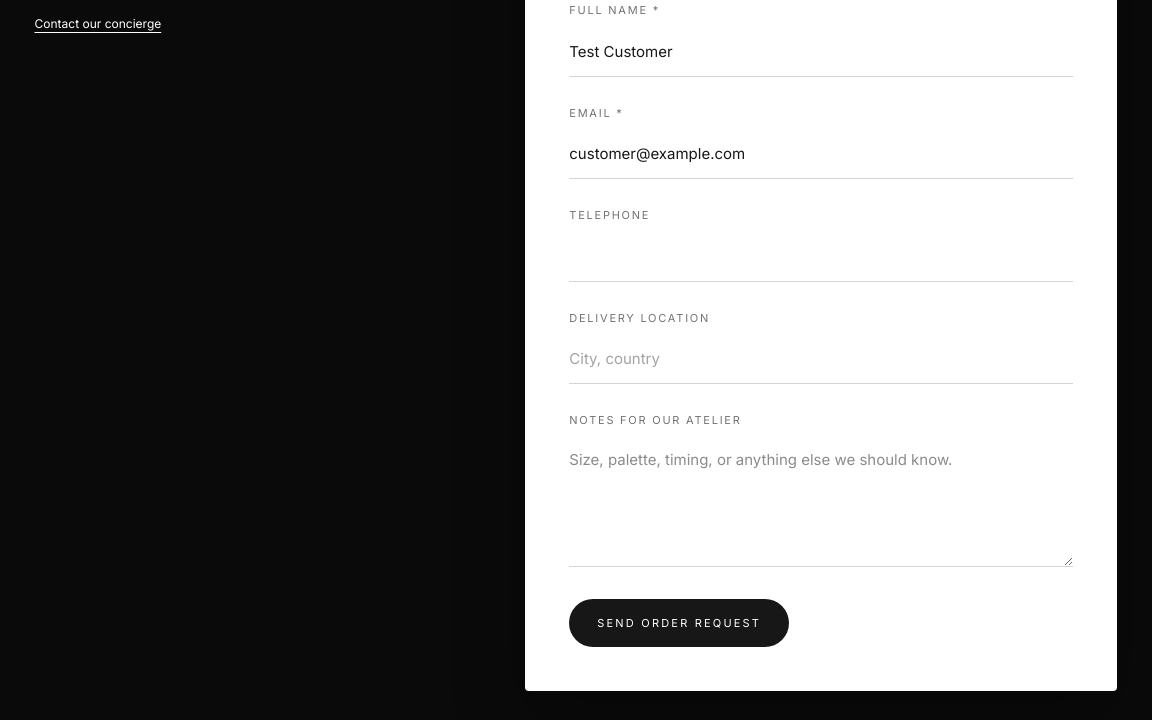
Test: request recovery › keeps details and permits a successful retry after network failure
(page scrolled)
Type "Delhi, India" into the field labelled "Delivery location" at x=821, y=360, box [569,336,1074,384]
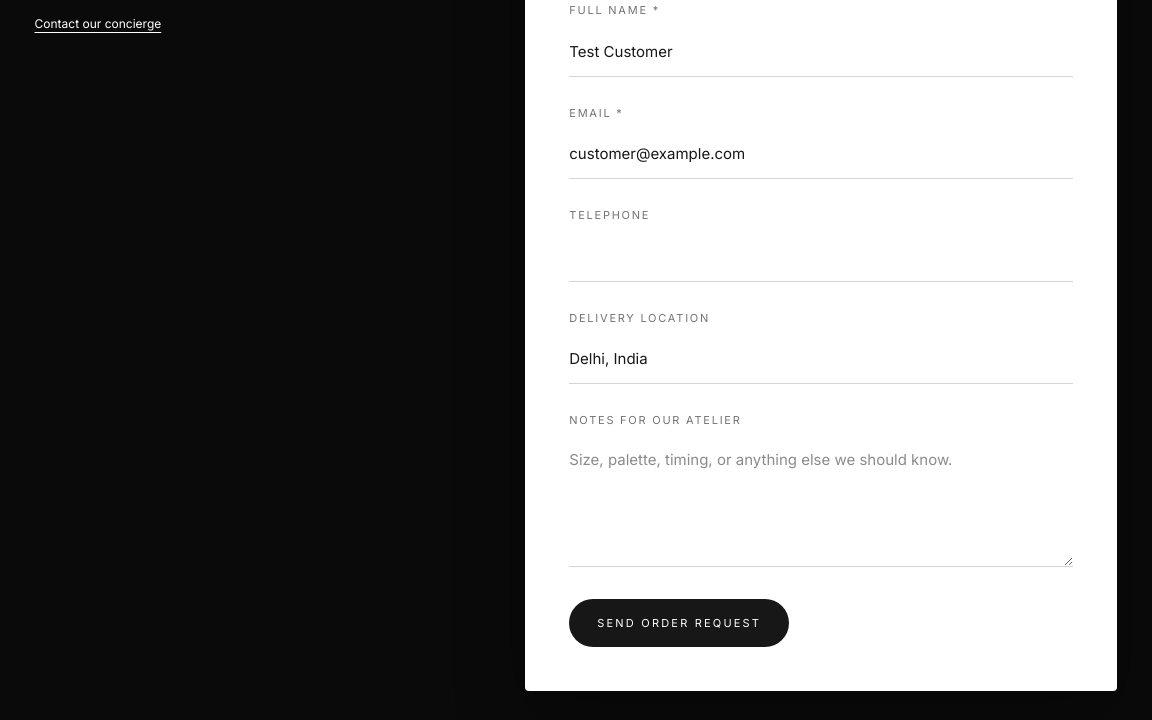
Click the button "Send order request" at x=679, y=623, box [569,599,789,647]
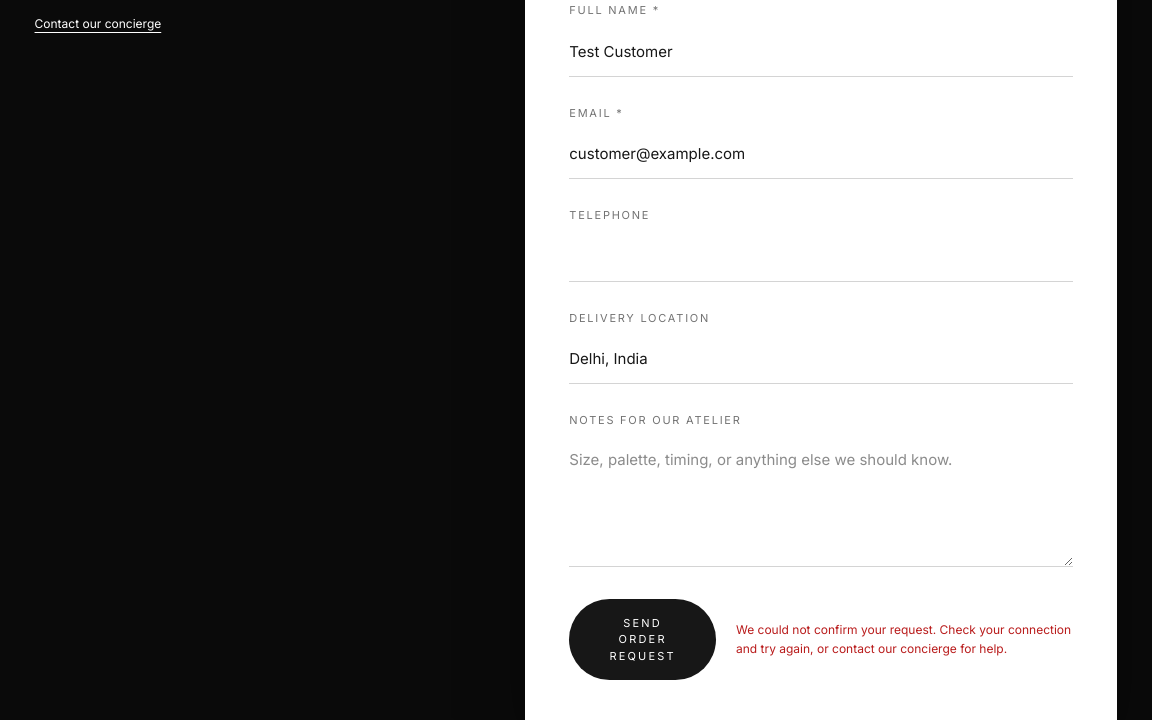
Expected: the message shows "Check your connection", [736,622,1071,656]
Click the button "Send order request" at x=643, y=639, box [569,599,716,680]
(page scrolled)
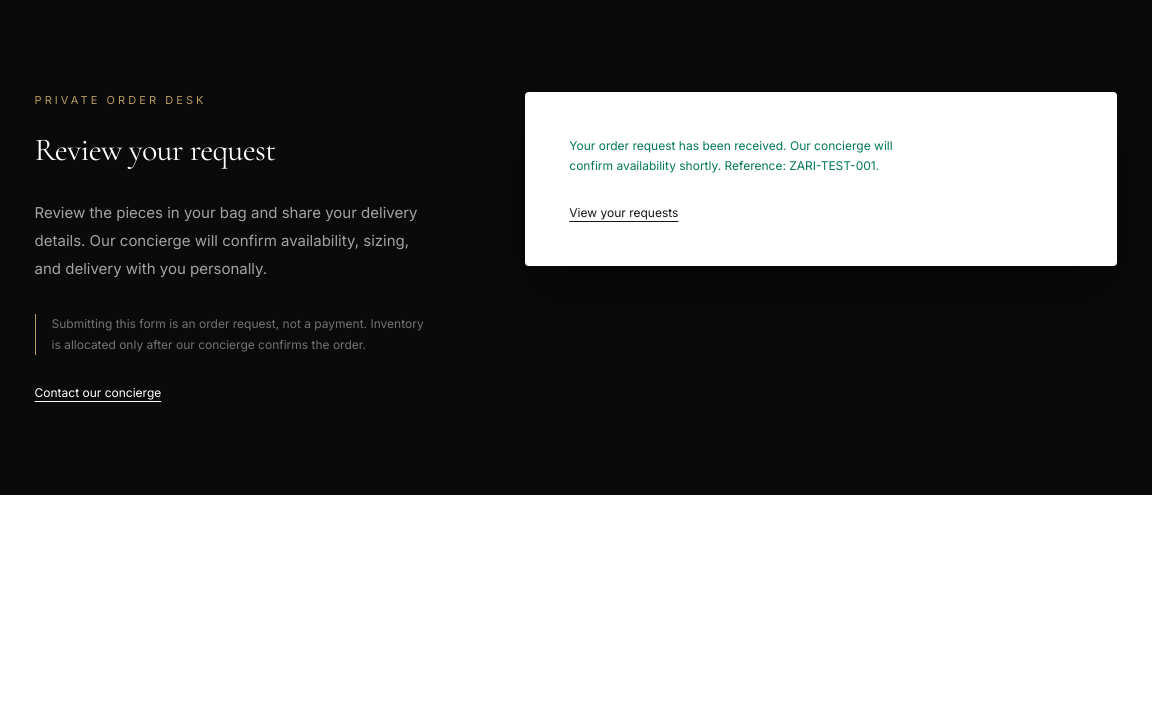
Expected: the text "Reference: ZARI-TEST-001" is shown, [569,138,893,173]
